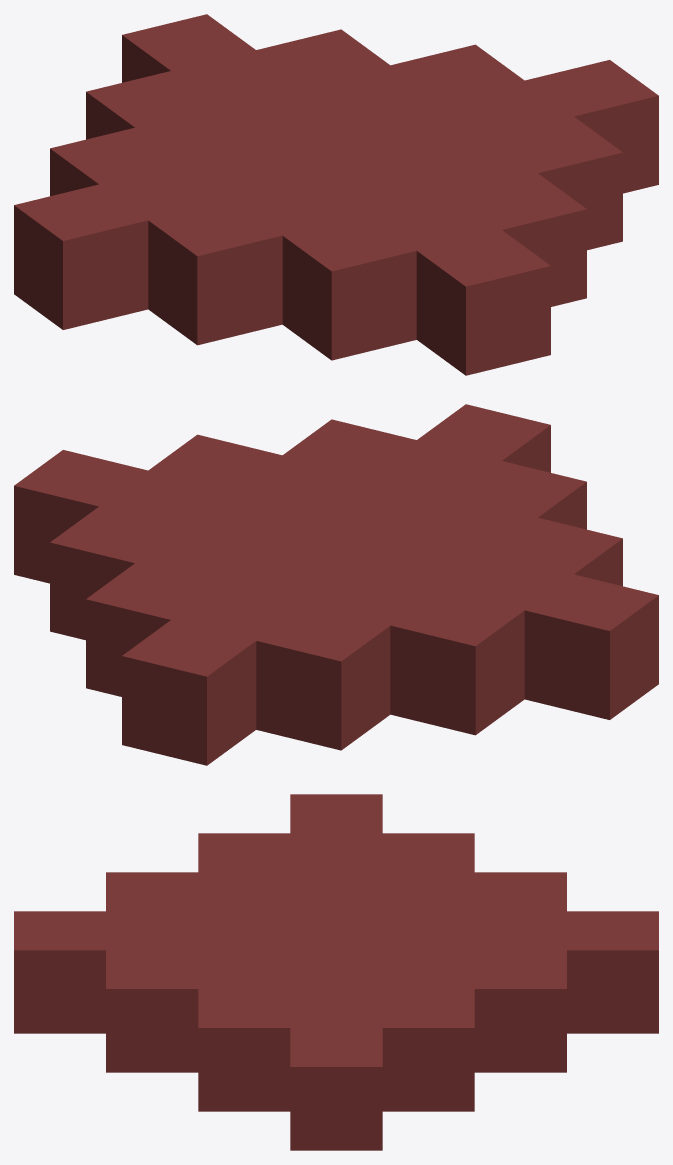
File: azulejoSolto.obj
3 renders of one model, top to bottom at view 1: azimuth 30°, elevation 25°; view 2: azimuth 150°, elevation 25°; view 3: azimuth 270°, elevation 25°, orthographic. The views are drawn at different scales.
Visible parts, largest first — view 1: azulejoSolto; view 2: azulejoSolto; view 3: azulejoSolto.
Boxes of the visible parts, <box> form: azulejoSolto: <box>14,14,658,375</box>; azulejoSolto: <box>14,404,658,765</box>; azulejoSolto: <box>14,794,658,1150</box>.
Size of the model in its own units: 7 by 1 by 7.
1 material, 1 textured.
